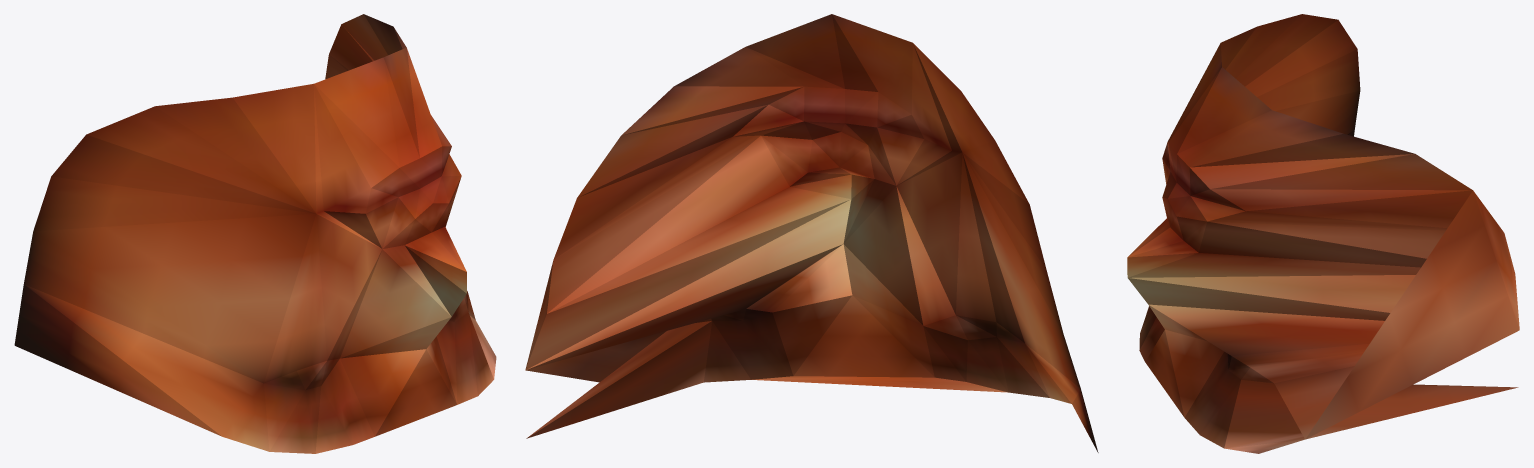
The model's file is real_115.obj.
3 views of the same model, side by side, from view 1: azimuth 30°, elevation 25°; view 2: azimuth 150°, elevation 25°; view 3: azimuth 270°, elevation 25° (orthographic). The views are drawn at different scales.
Bounding box in the file's own units: 106 × 81 × 87.27.
